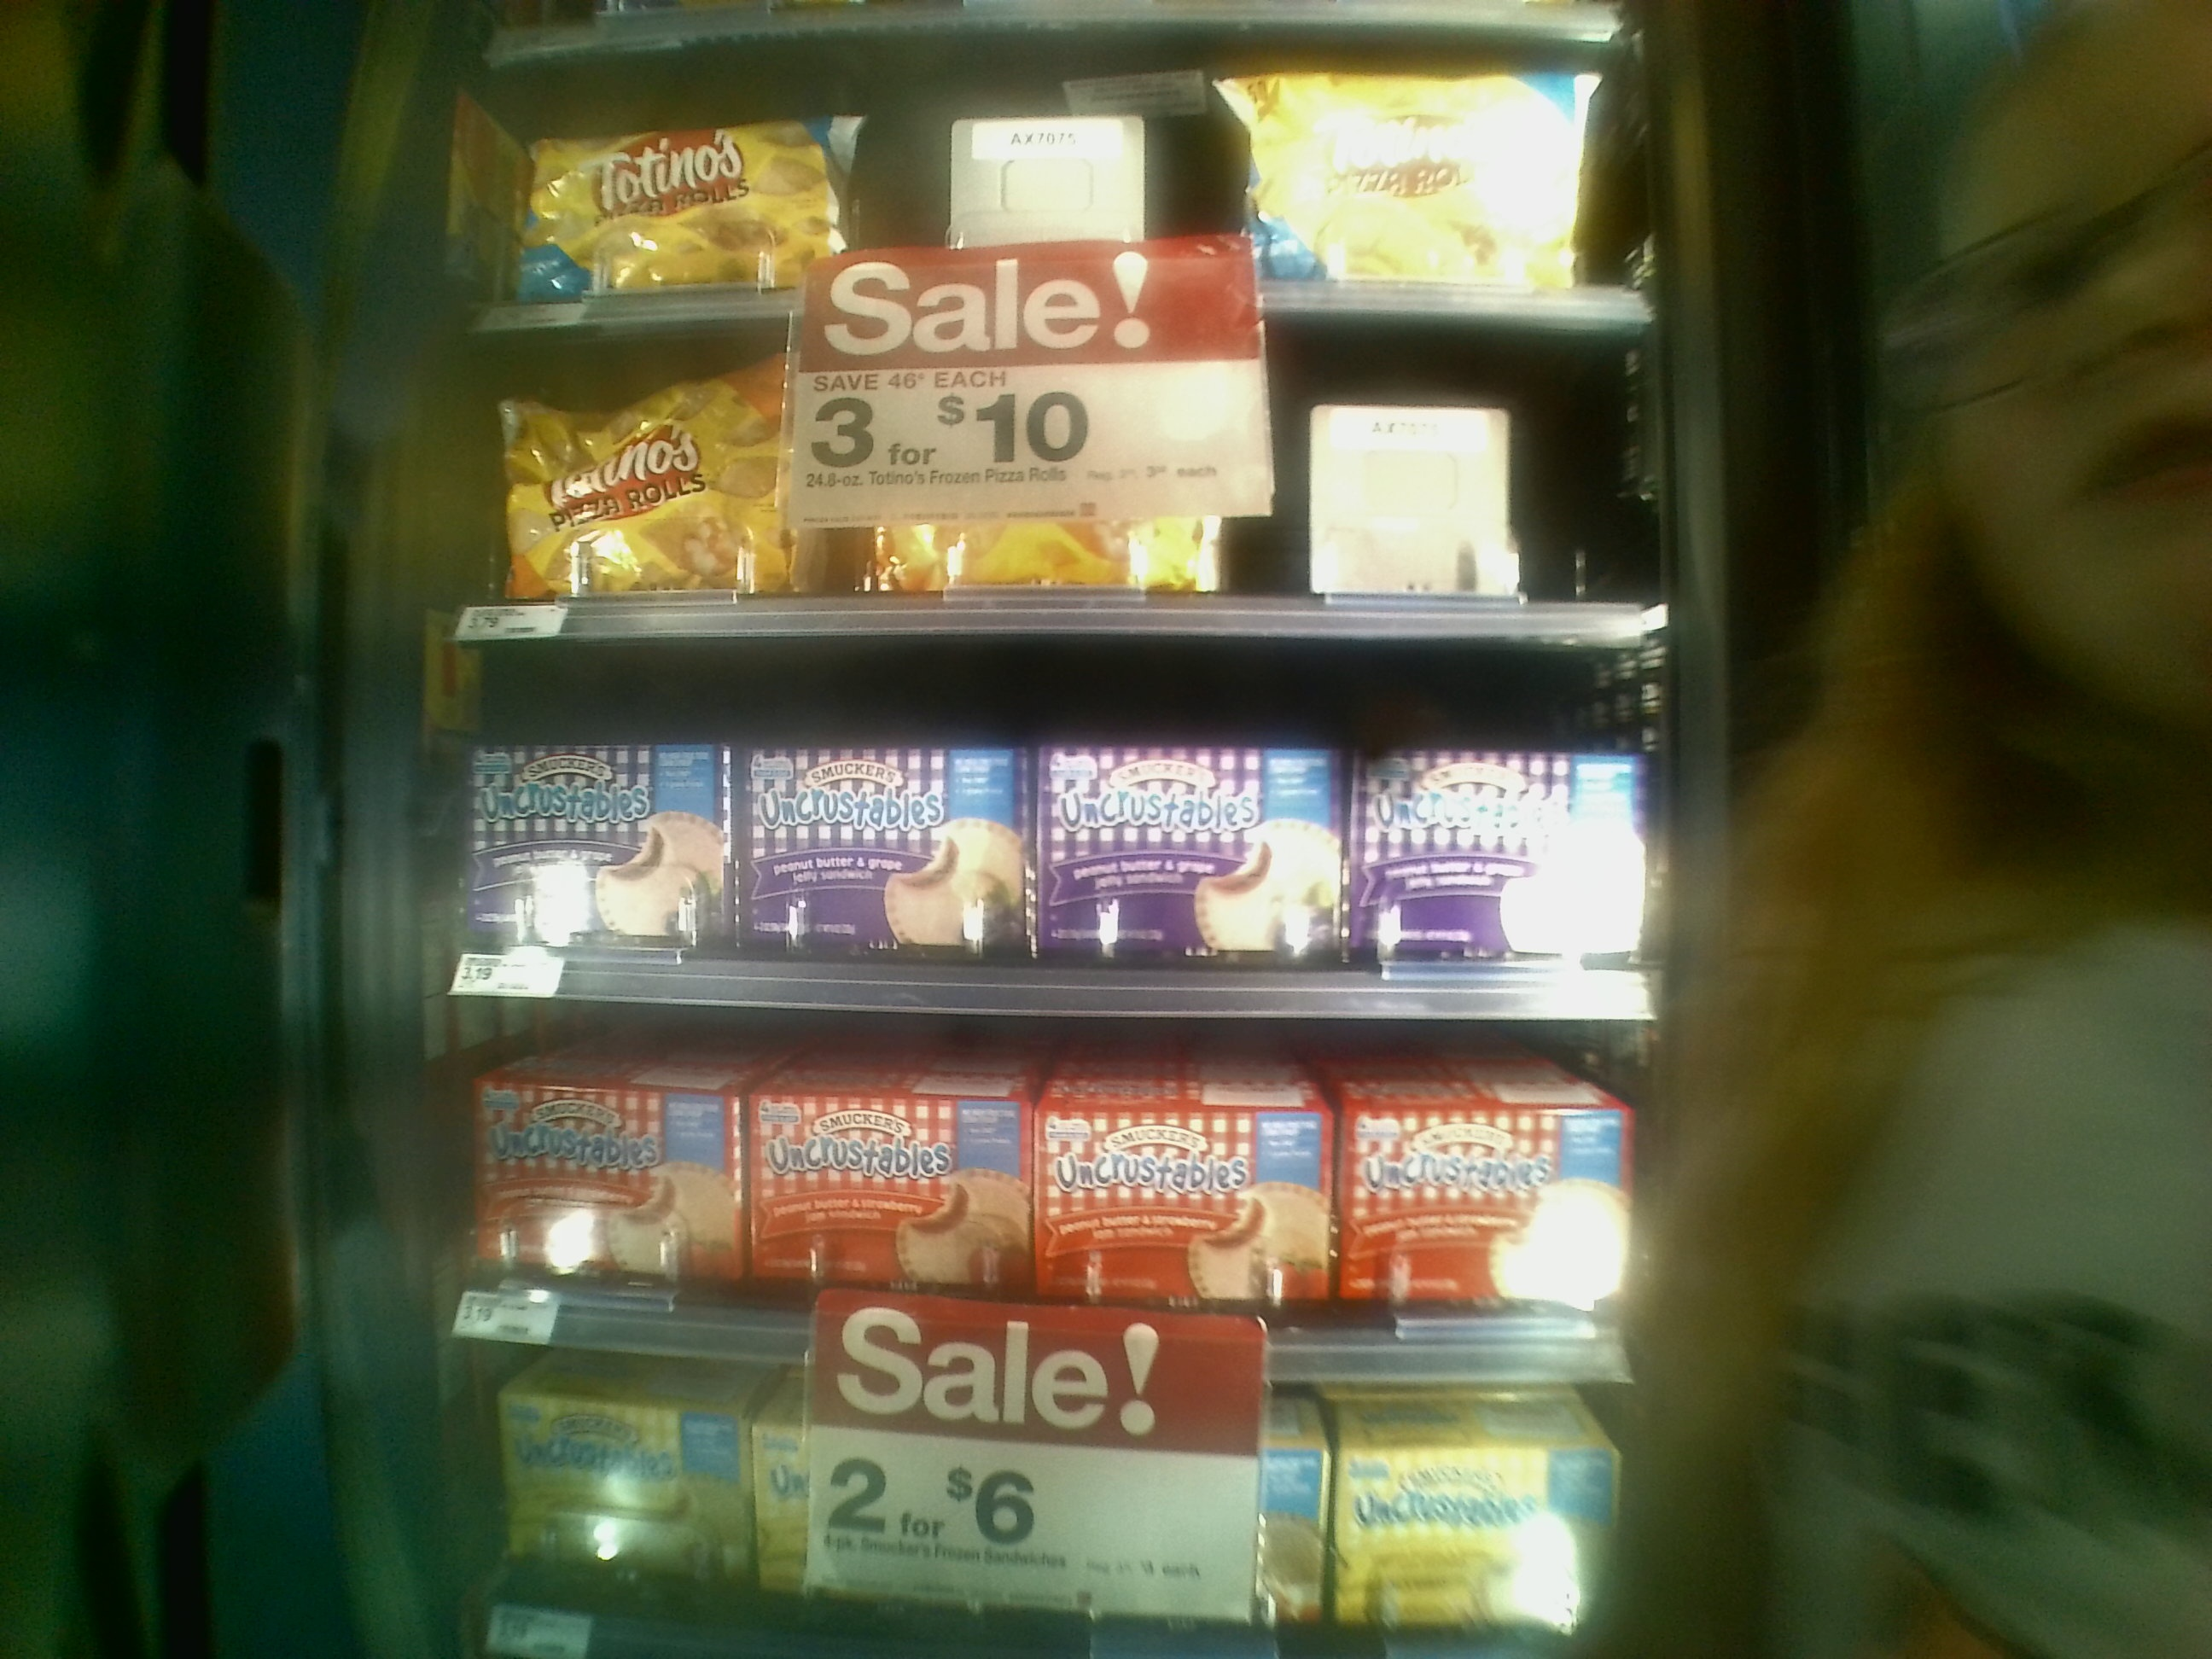shelf: (402, 652, 1672, 1030), (430, 1021, 1651, 1399), (408, 354, 1674, 667), (402, 42, 1688, 343)
